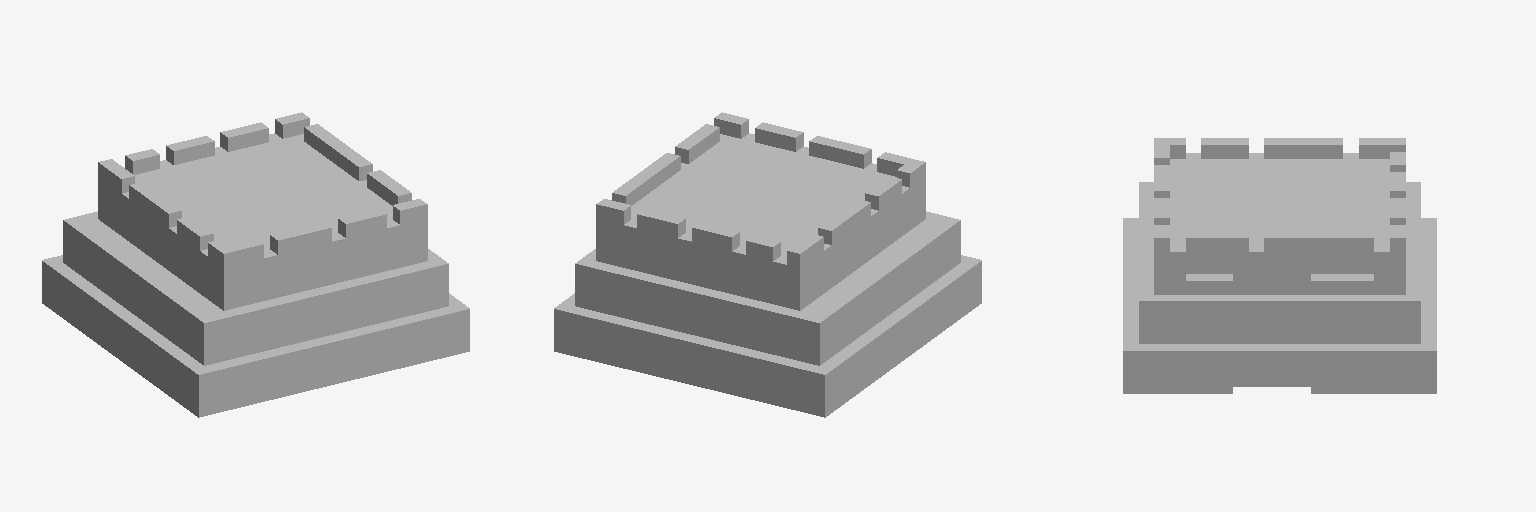
File: SandCastle.obj
3 views of the same model, side by side, from view 1: azimuth 30°, elevation 25°; view 2: azimuth 150°, elevation 25°; view 3: azimuth 270°, elevation 25° (orthographic).
Visible parts, largest first — view 1: object 1; view 2: object 1; view 3: object 1.
Boxes of the visible parts, <box> form: object 1: <box>42,112,469,417</box>; object 1: <box>554,112,981,417</box>; object 1: <box>1123,138,1436,393</box>.
Size of the model in its own units: 2 by 1 by 2.